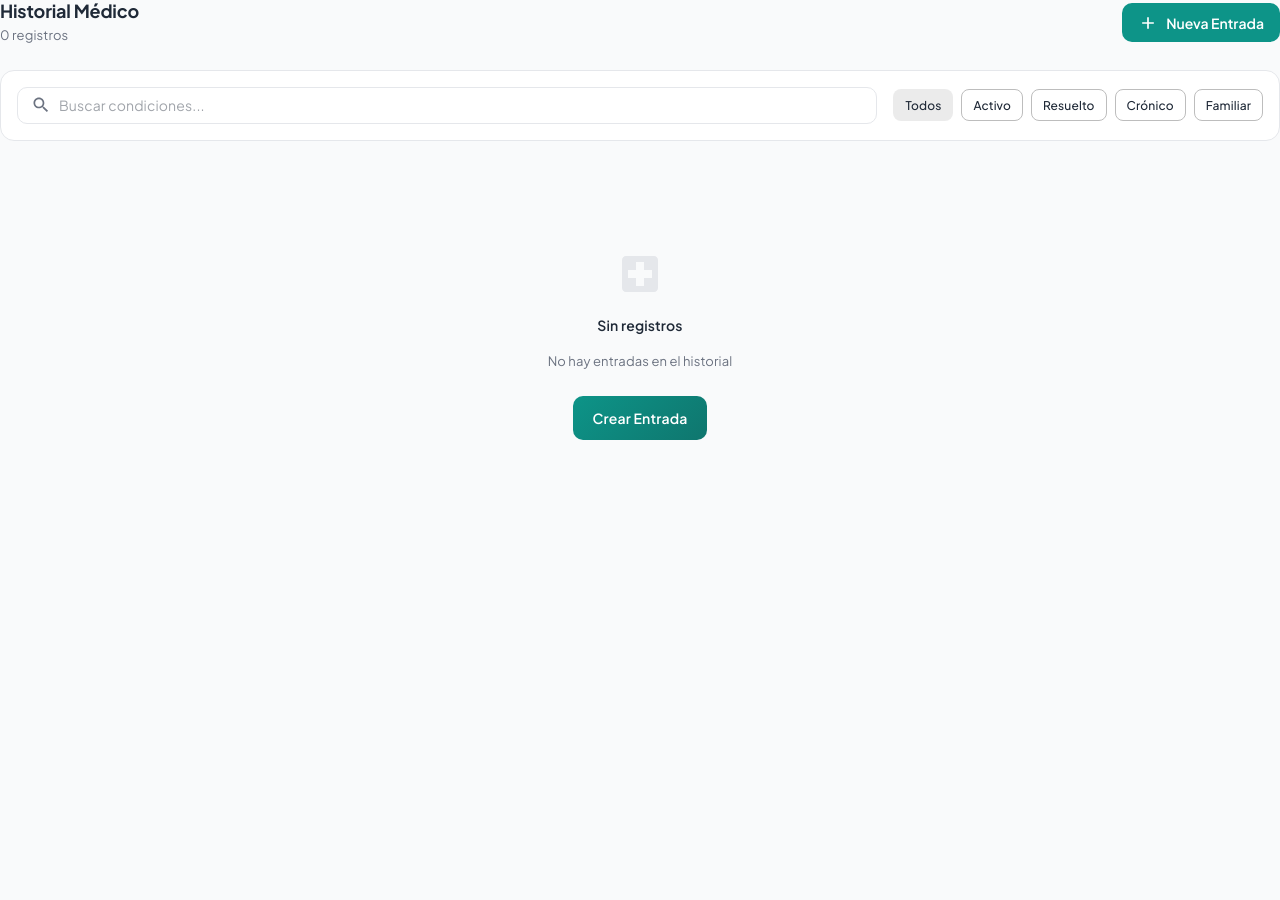
Scenario: MedicalHistoryPage › opens the create dialog and validates required fields
Click the button "Nueva Entrada": (1201, 23) left=1122, top=3, right=1279, bottom=42
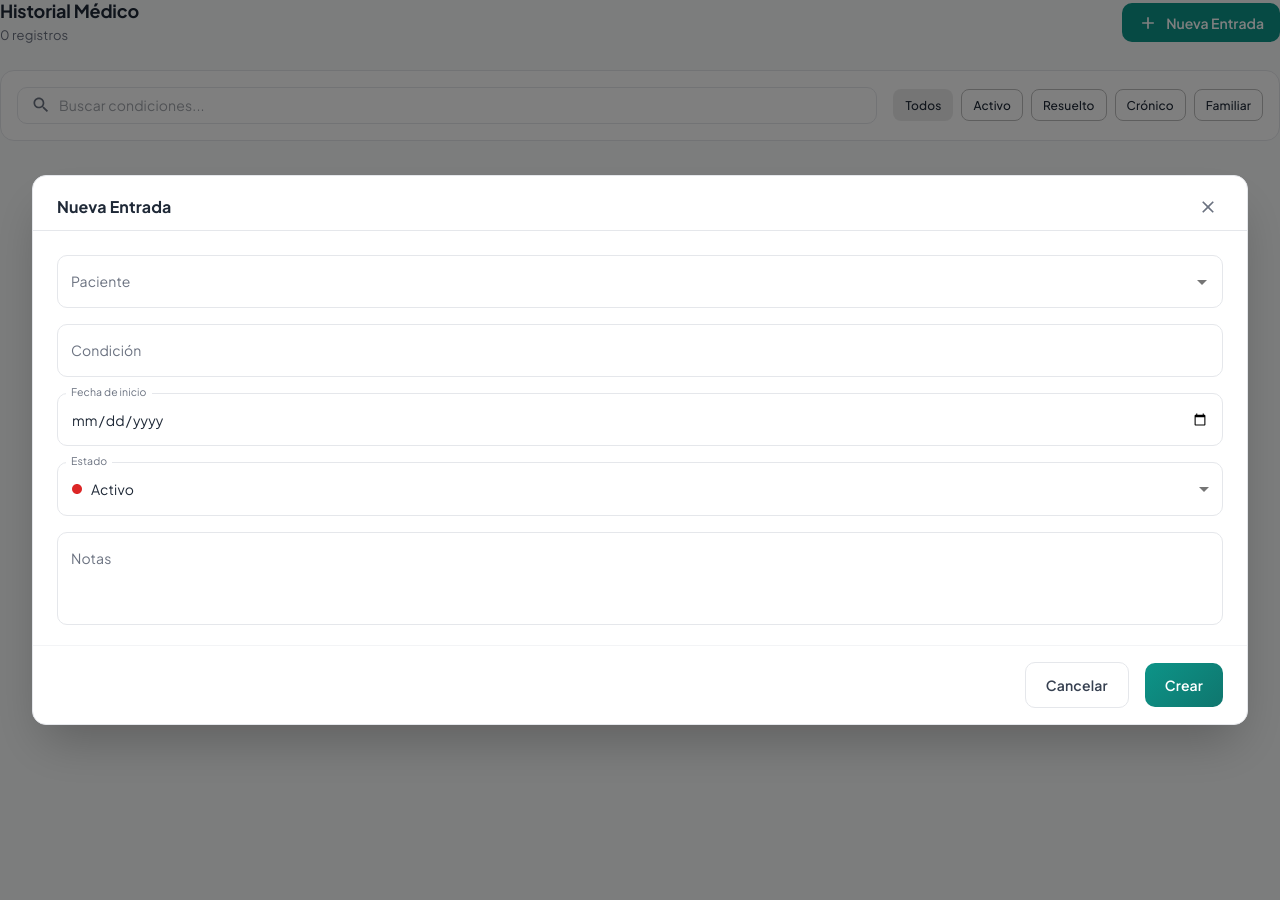
Now the heading "Nueva Entrada" is shown, box left=57, top=196, right=172, bottom=218
Click the button "Crear": (1184, 685) left=1145, top=662, right=1223, bottom=707
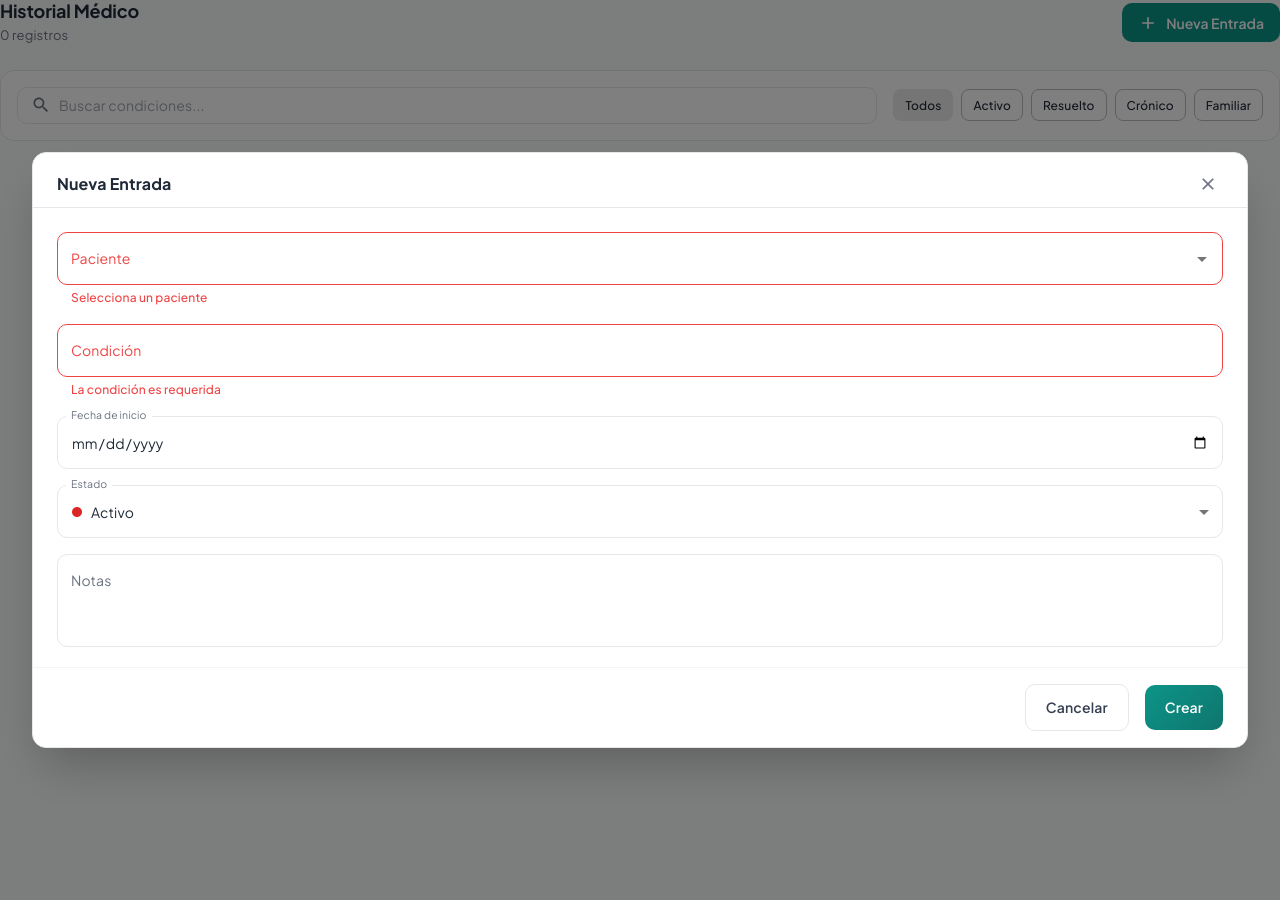
Now the text "La condición es requerida" is shown, box left=71, top=382, right=221, bottom=397
Now the text "Selecciona un paciente" is shown, box left=71, top=290, right=208, bottom=305
